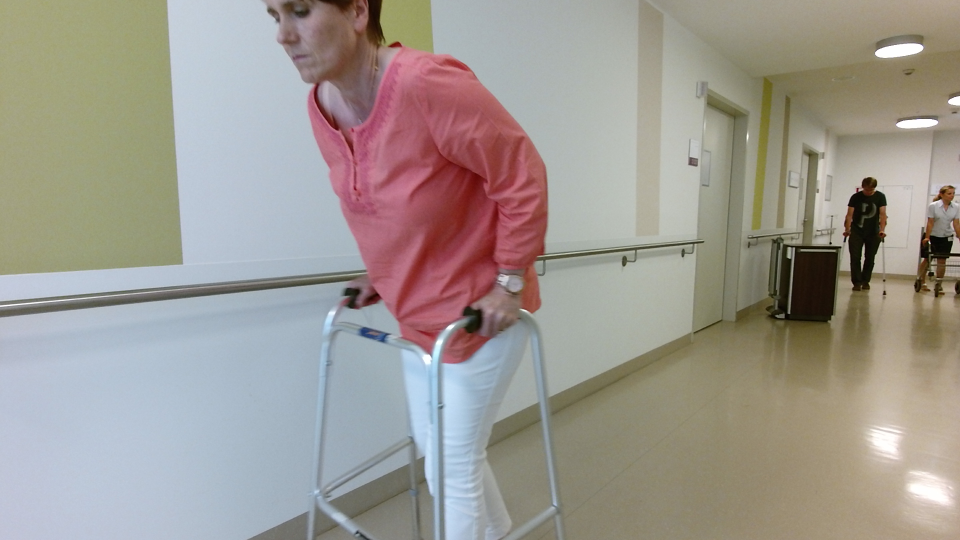crutches: (837, 177, 890, 294)
